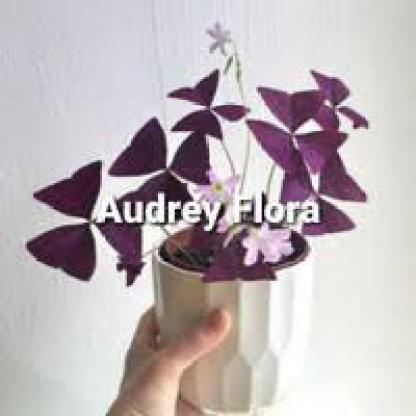Kupu-Kupu: (41, 163, 145, 280), (101, 122, 209, 207), (253, 78, 334, 176), (280, 165, 369, 238)
